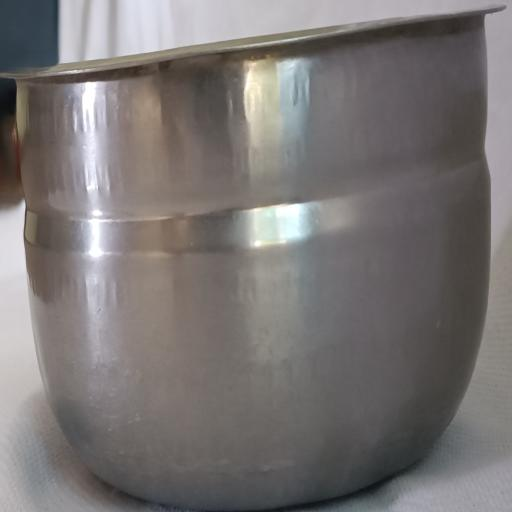vessel: (16, 7, 503, 510)
